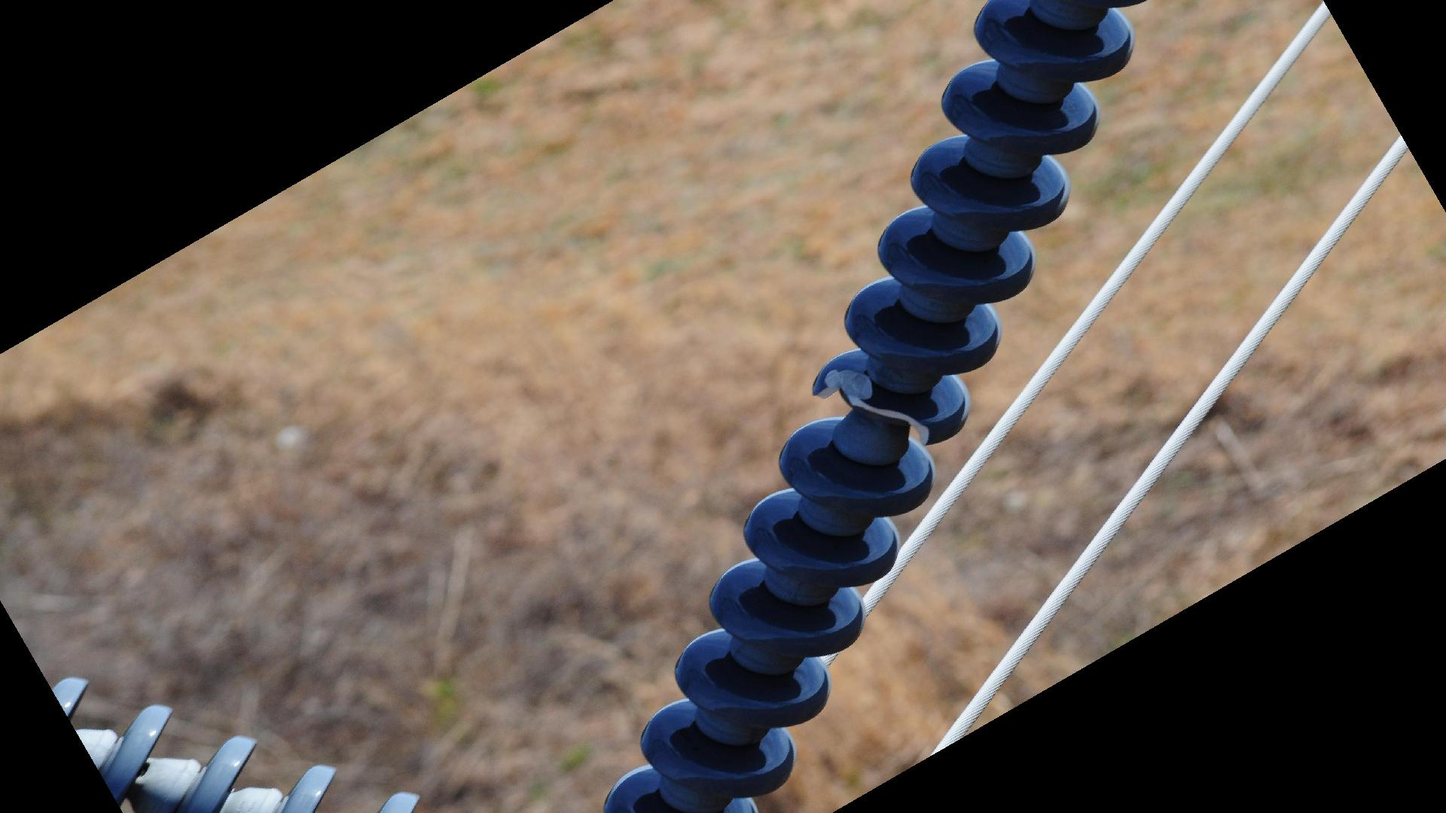insulator: (595, 1, 1150, 813), (41, 668, 433, 813)
insulator_breakage: (807, 364, 949, 453)
